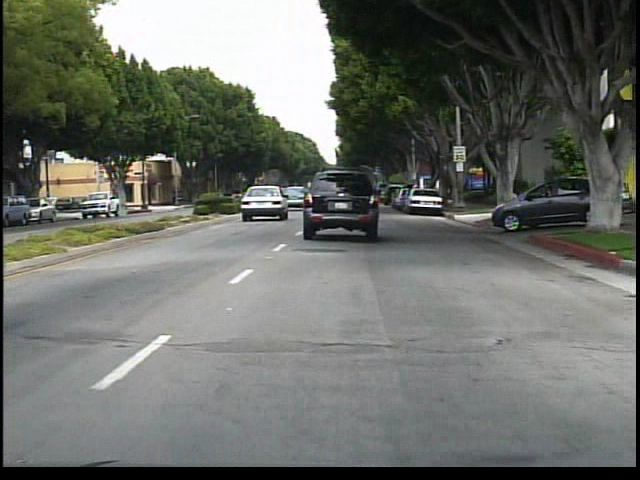person: (497, 169, 517, 212)
